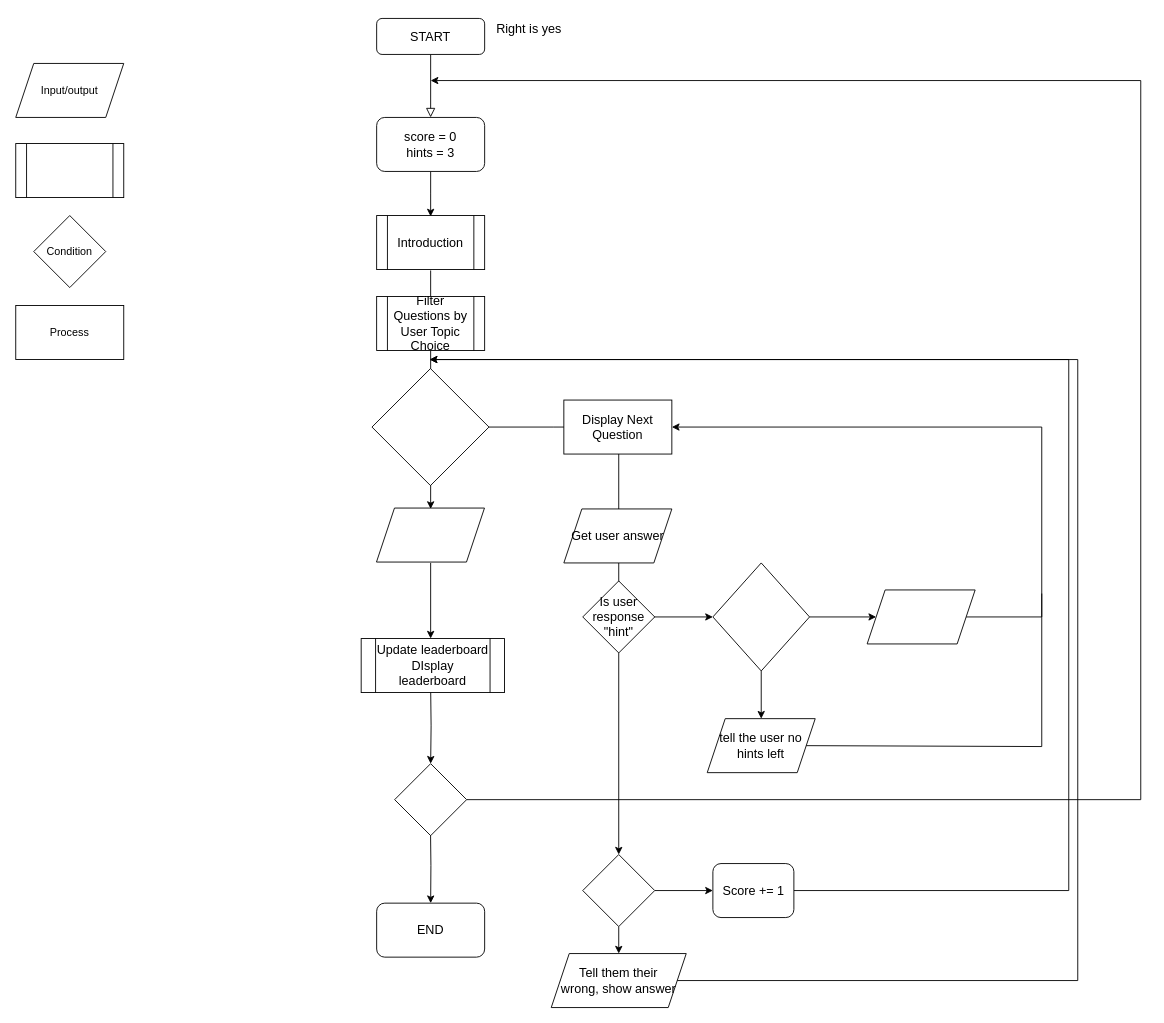
This 1164x1023 diagram has some shape labels left out. Each missing label, with the centre of its shape:
"Displays score, ask for users name" goes at point 430,534.
"Does player still have hints left" goes at point 761,616.
"Function" goes at point 69,170.
"Is it correct" goes at point 618,890.
"Is there remaining questions" goes at point 430,427.
"Play again?" goes at point 430,799.
"Show hint" goes at point 920,616.
